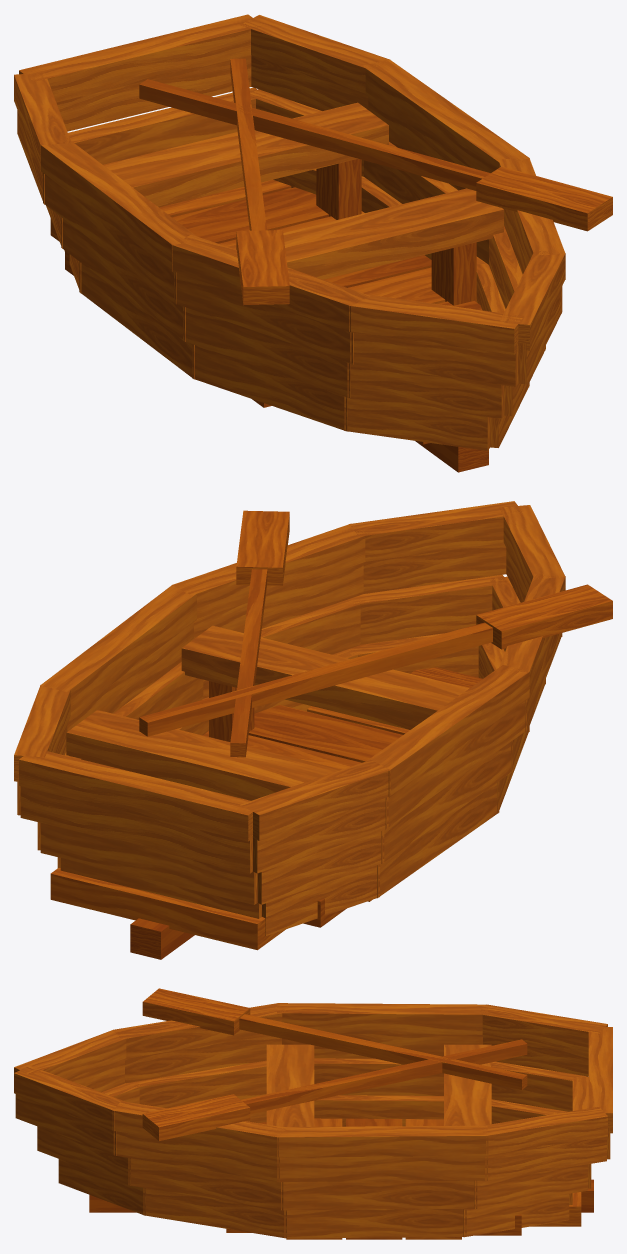
Rendered from boat.gltf.
The picture shows the model from 3 angles, top to bottom: view 1: azimuth 30°, elevation 25°; view 2: azimuth 150°, elevation 25°; view 3: azimuth 270°, elevation 25°; orthographic projection. The views are drawn at different scales.
Parts seen in each view (by area): view 1: boat; view 2: boat; view 3: boat.
Part boxes in pixels (<box>): boat: <box>14,14,612,472</box>; boat: <box>14,501,612,959</box>; boat: <box>14,988,612,1239</box>.
Bounding box in the file's own units: 0.9637 × 0.4825 × 1.76.
Materials: 1 (1 with a texture image).
